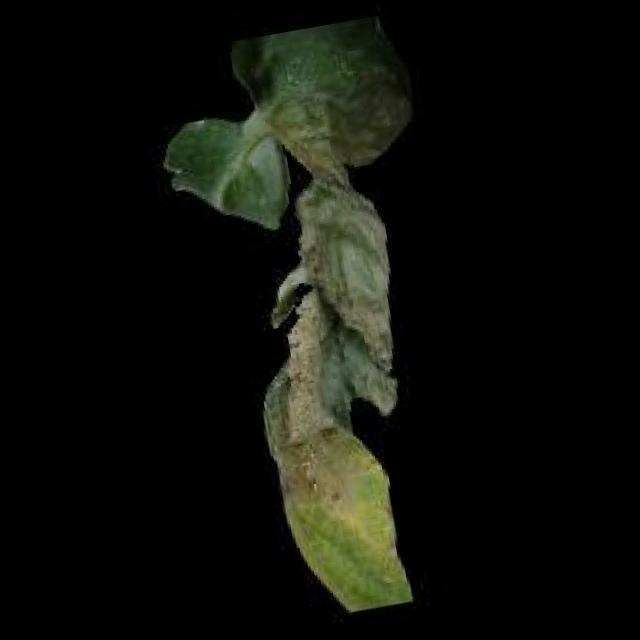Tomato late blight leaf: (138, 3, 502, 635)
